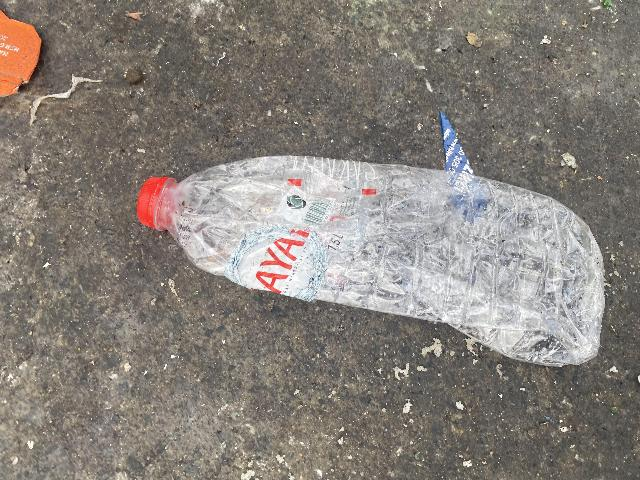Kagit: (0, 0, 57, 116)
Plastik: (140, 163, 610, 365)
